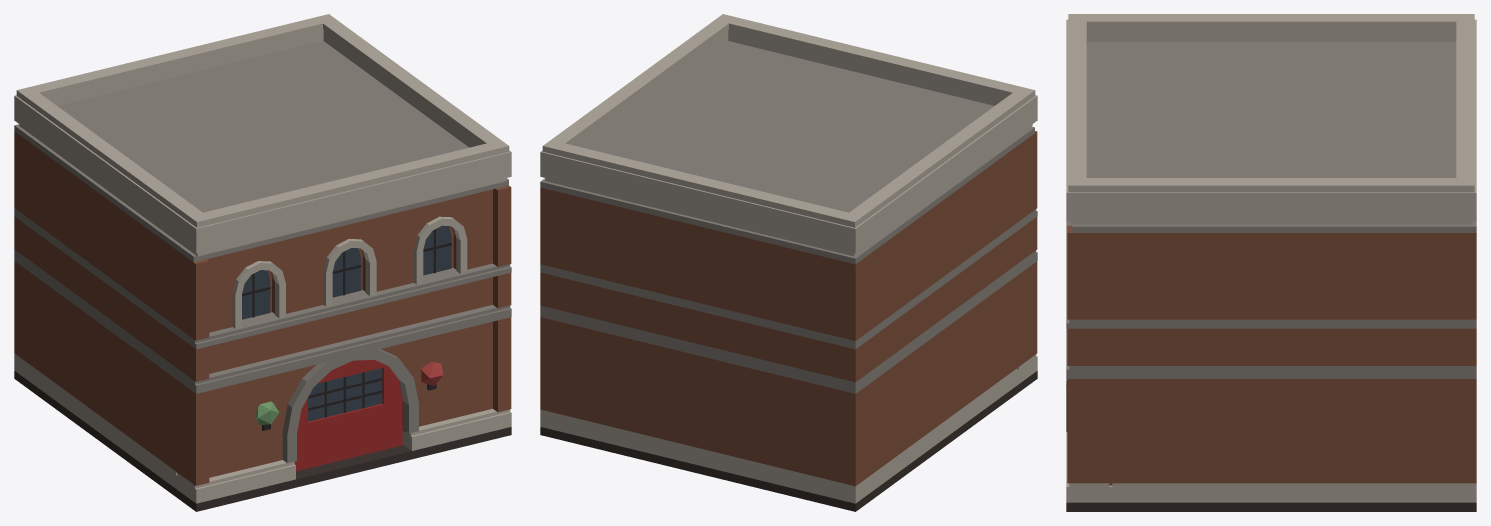
Rendered from fire-station-a7346f.glb.
3 views of the same model, side by side, from view 1: azimuth 30°, elevation 25°; view 2: azimuth 150°, elevation 25°; view 3: azimuth 270°, elevation 25° (orthographic). The views are drawn at different scales.
Parts seen in each view (by area): view 1: station-shell, bay-door-leaf; view 2: station-shell; view 3: station-shell.
Part boxes in pixels (x1,y1,x2,y2): station-shell: (14,14,511,511); bay-door-leaf: (294,360,402,471); station-shell: (540,14,1037,511); station-shell: (1066,14,1476,511).
Size of the model in its own units: 8 by 7 by 8.
